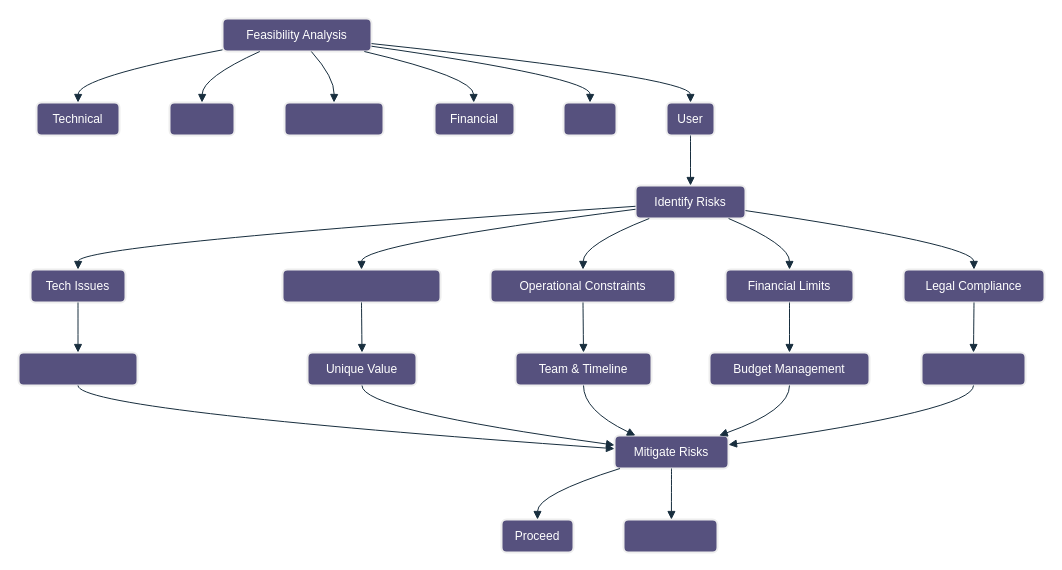
Image size: 1062x570. Some labels were removed from this diagram. The shapes that lost their labels are listed below. From the top down, each one's centre as x and y in pixels, then its label:
point 201,118: Market
point 333,118: Operational
point 589,118: Legal
point 361,285: Market Competition
point 77,368: Tech Upgrades
point 973,368: Legal Advice
point 670,535: Reevaluate
